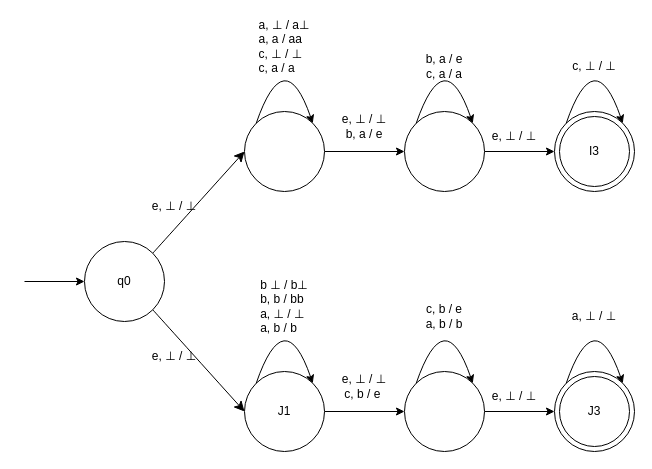
This 652x469 diagram has some shape labels left out. Here are the shapes that lost their labels. From the top down, the centre of each, then its label:
At (x=284, y=151): "I1".
At (x=444, y=151): "I2".
At (x=444, y=411): "J2".
